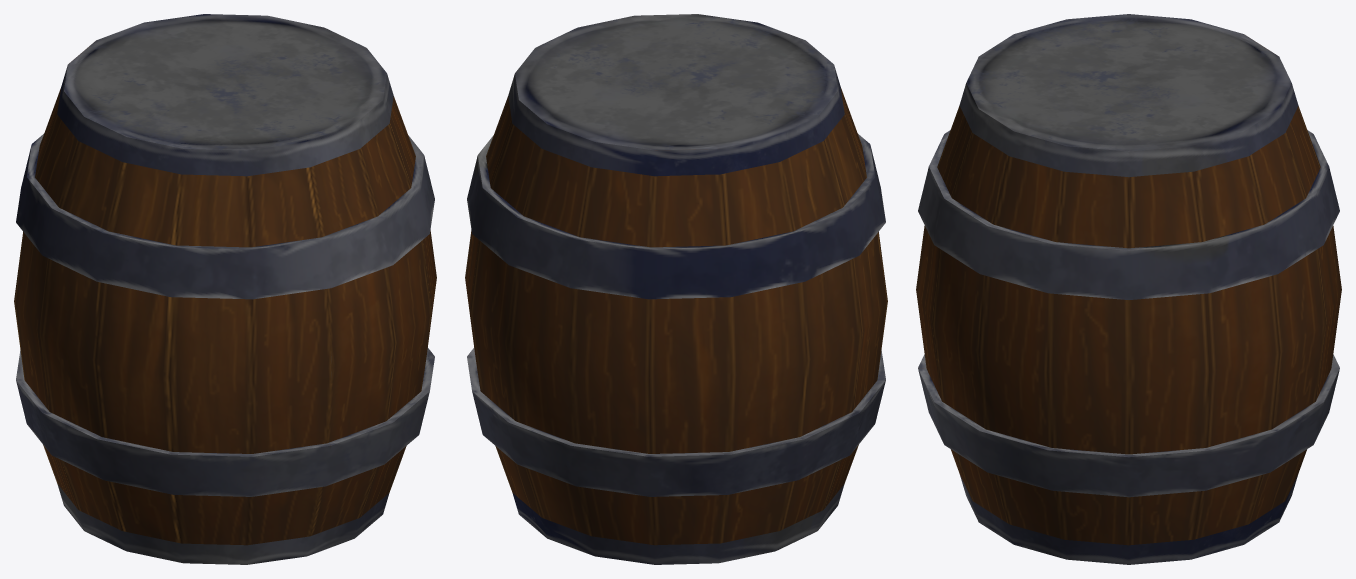
Rendered from Barril_Simple_Original_Claro1.fbx.
The picture shows the model from 3 angles, left to right: view 1: azimuth 30°, elevation 25°; view 2: azimuth 150°, elevation 25°; view 3: azimuth 270°, elevation 25°; orthographic projection.
Visible parts, largest first — view 1: Barril_Simple_Original_Claro1; view 2: Barril_Simple_Original_Claro1; view 3: Barril_Simple_Original_Claro1.
Boxes of the visible parts, x1=… form: Barril_Simple_Original_Claro1: x1=14, y1=14, x2=436, y2=564; Barril_Simple_Original_Claro1: x1=465, y1=14, x2=887, y2=564; Barril_Simple_Original_Claro1: x1=916, y1=14, x2=1341, y2=564.
Bounding box in the file's own units: 98.01 × 105 × 98.01.
